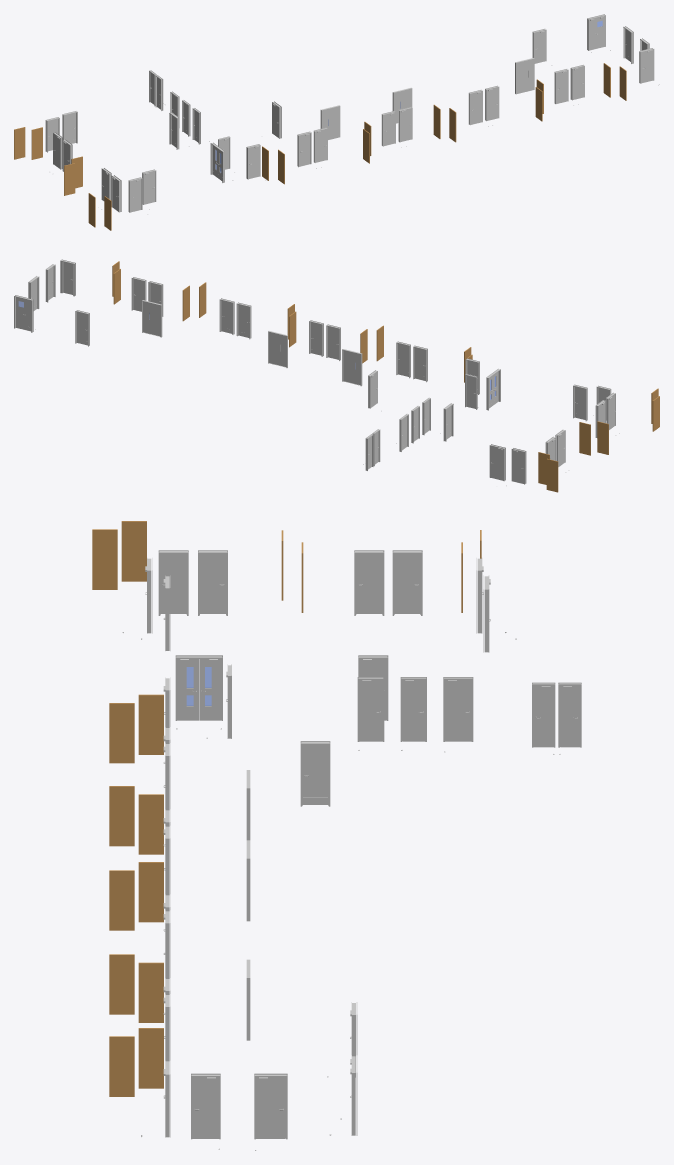
Rendered from Building Model - Excavation and Trench - updated_1kn71nZ$z5OvtVVlfMoR7m-Piso 4_IfcDoor.dae.
3 renders of one model, top to bottom at view 1: azimuth 30°, elevation 25°; view 2: azimuth 150°, elevation 25°; view 3: azimuth 270°, elevation 25°, orthographic. The views are drawn at different scales.
Parts seen in each view (by area): view 1: 3OBvVqfBfDR8CraztUO$hP, 32NMaHW4HETOoqnpdpZFRR, 3OBvVqfBfDR8CraztUO$oy, 3OBvVqfBfDR8CraztUO$p0, 3OBvVqfBfDR8CraztUO$p3, 3OBvVqfBfDR8CraztUO$p7, 32NMaHW4HETOoqnpdpZF16, 3OBvVqfBfDR8CraztUO$p1, 3OBvVqfBfDR8CraztUO$p4, 3OBvVqfBfDR8CraztUO$pN, 3OBvVqfBfDR8CraztUO$p5, 3OBvVqfBfDR8CraztUO$p6 (+16 smaller); view 2: 3OBvVqfBfDR8CraztUO$hP, 3OBvVqfBfDR8CraztUO$oy, 32NMaHW4HETOoqnpdpZFRR, 3OBvVqfBfDR8CraztUO$ox, 32NMaHW4HETOoqnpdpZF08, 3OBvVqfBfDR8CraztUO$pM, 3OBvVqfBfDR8CraztUO$p5, 3OBvVqfBfDR8CraztUO$p4, 3JLUC6oX1CJwqcpqLO$M$f, 32NMaHW4HETOoqnpdpZF16, 3OBvVqfBfDR8CraztUO$p1, 3OBvVqfBfDR8CraztUO$p3 (+13 smaller); view 3: 3JLUC6oX1CJwqcpqLO$M$f, 32NMaHW4HETOoqnpdpZF0N, 3OBvVqfBfDR8CraztUO$pA, 32NMaHW4HETOoqnpdpZF4G, 3OBvVqfBfDR8CraztUO$RO, 32NMaHW4HETOoqnpdpZF4K, 32NMaHW4HETOoqnpdpZF14, 32NMaHW4HETOoqnpdpZFFj, 32NMaHW4HETOoqnpdpZFFi, 3JLUC6oX1CJwqcpqLO$MzI, 3JLUC6oX1CJwqcpqLO$MzH, 32NMaHW4HETOoqnpdpZF0_ (+14 smaller).
Boxes of the visible parts, x1,y1,x2,y2 form: 3OBvVqfBfDR8CraztUO$hP: [515, 58, 534, 94]; 32NMaHW4HETOoqnpdpZFRR: [587, 14, 610, 52]; 3OBvVqfBfDR8CraztUO$oy: [320, 105, 340, 139]; 3OBvVqfBfDR8CraztUO$p0: [297, 131, 316, 168]; 3OBvVqfBfDR8CraztUO$p3: [398, 107, 412, 146]; 3OBvVqfBfDR8CraztUO$p7: [570, 64, 584, 104]; 32NMaHW4HETOoqnpdpZF16: [142, 169, 156, 209]; 3OBvVqfBfDR8CraztUO$p1: [313, 127, 327, 167]; 3OBvVqfBfDR8CraztUO$p4: [485, 85, 499, 125]; 3OBvVqfBfDR8CraztUO$pN: [246, 144, 265, 180]; 3OBvVqfBfDR8CraztUO$p5: [468, 89, 488, 126]; 3OBvVqfBfDR8CraztUO$p6: [554, 69, 573, 105]; 3OBvVqfBfDR8CraztUO$hP: [142, 300, 162, 337]; 3OBvVqfBfDR8CraztUO$oy: [342, 349, 362, 386]; 32NMaHW4HETOoqnpdpZFRR: [14, 295, 35, 332]; 3OBvVqfBfDR8CraztUO$ox: [268, 331, 287, 367]; 32NMaHW4HETOoqnpdpZF08: [489, 444, 505, 481]; 3OBvVqfBfDR8CraztUO$pM: [506, 448, 526, 485]; 3OBvVqfBfDR8CraztUO$p5: [236, 302, 251, 339]; 3OBvVqfBfDR8CraztUO$p4: [219, 298, 234, 334]; 3JLUC6oX1CJwqcpqLO$M$f: [478, 368, 500, 410]; 32NMaHW4HETOoqnpdpZF16: [573, 384, 593, 421]; 3OBvVqfBfDR8CraztUO$p1: [396, 341, 410, 378]; 3OBvVqfBfDR8CraztUO$p3: [309, 320, 323, 356]; 3JLUC6oX1CJwqcpqLO$M$f: [175, 655, 222, 729]; 32NMaHW4HETOoqnpdpZF0N: [254, 1073, 287, 1150]; 3OBvVqfBfDR8CraztUO$pA: [443, 677, 473, 752]; 32NMaHW4HETOoqnpdpZF4G: [354, 550, 384, 615]; 3OBvVqfBfDR8CraztUO$RO: [300, 741, 330, 806]; 32NMaHW4HETOoqnpdpZF4K: [392, 550, 422, 615]; 32NMaHW4HETOoqnpdpZF14: [191, 1073, 220, 1149]; 32NMaHW4HETOoqnpdpZFFj: [198, 550, 227, 615]; 32NMaHW4HETOoqnpdpZFFi: [158, 550, 188, 615]; 3JLUC6oX1CJwqcpqLO$MzI: [357, 677, 384, 750]; 3JLUC6oX1CJwqcpqLO$MzH: [400, 677, 426, 750]; 32NMaHW4HETOoqnpdpZF0_: [558, 682, 581, 754].
Bounding box in the file's own units: 40.89 × 14.84 × 2.12.
